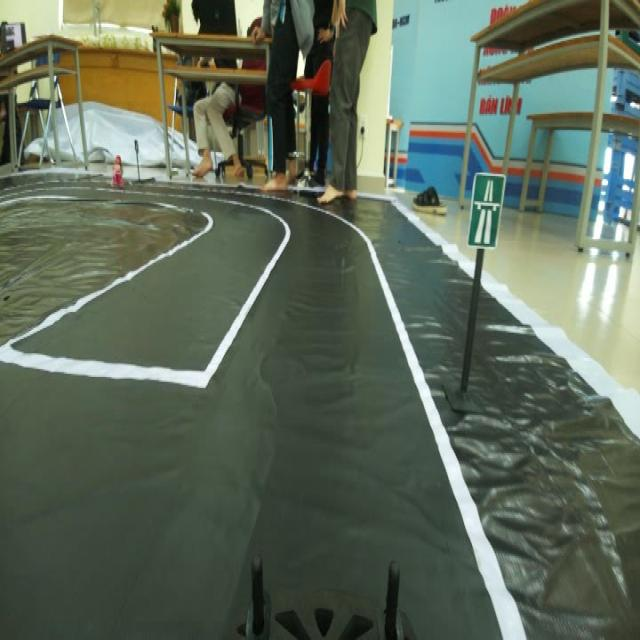highway_entry: (467, 162, 503, 258)
